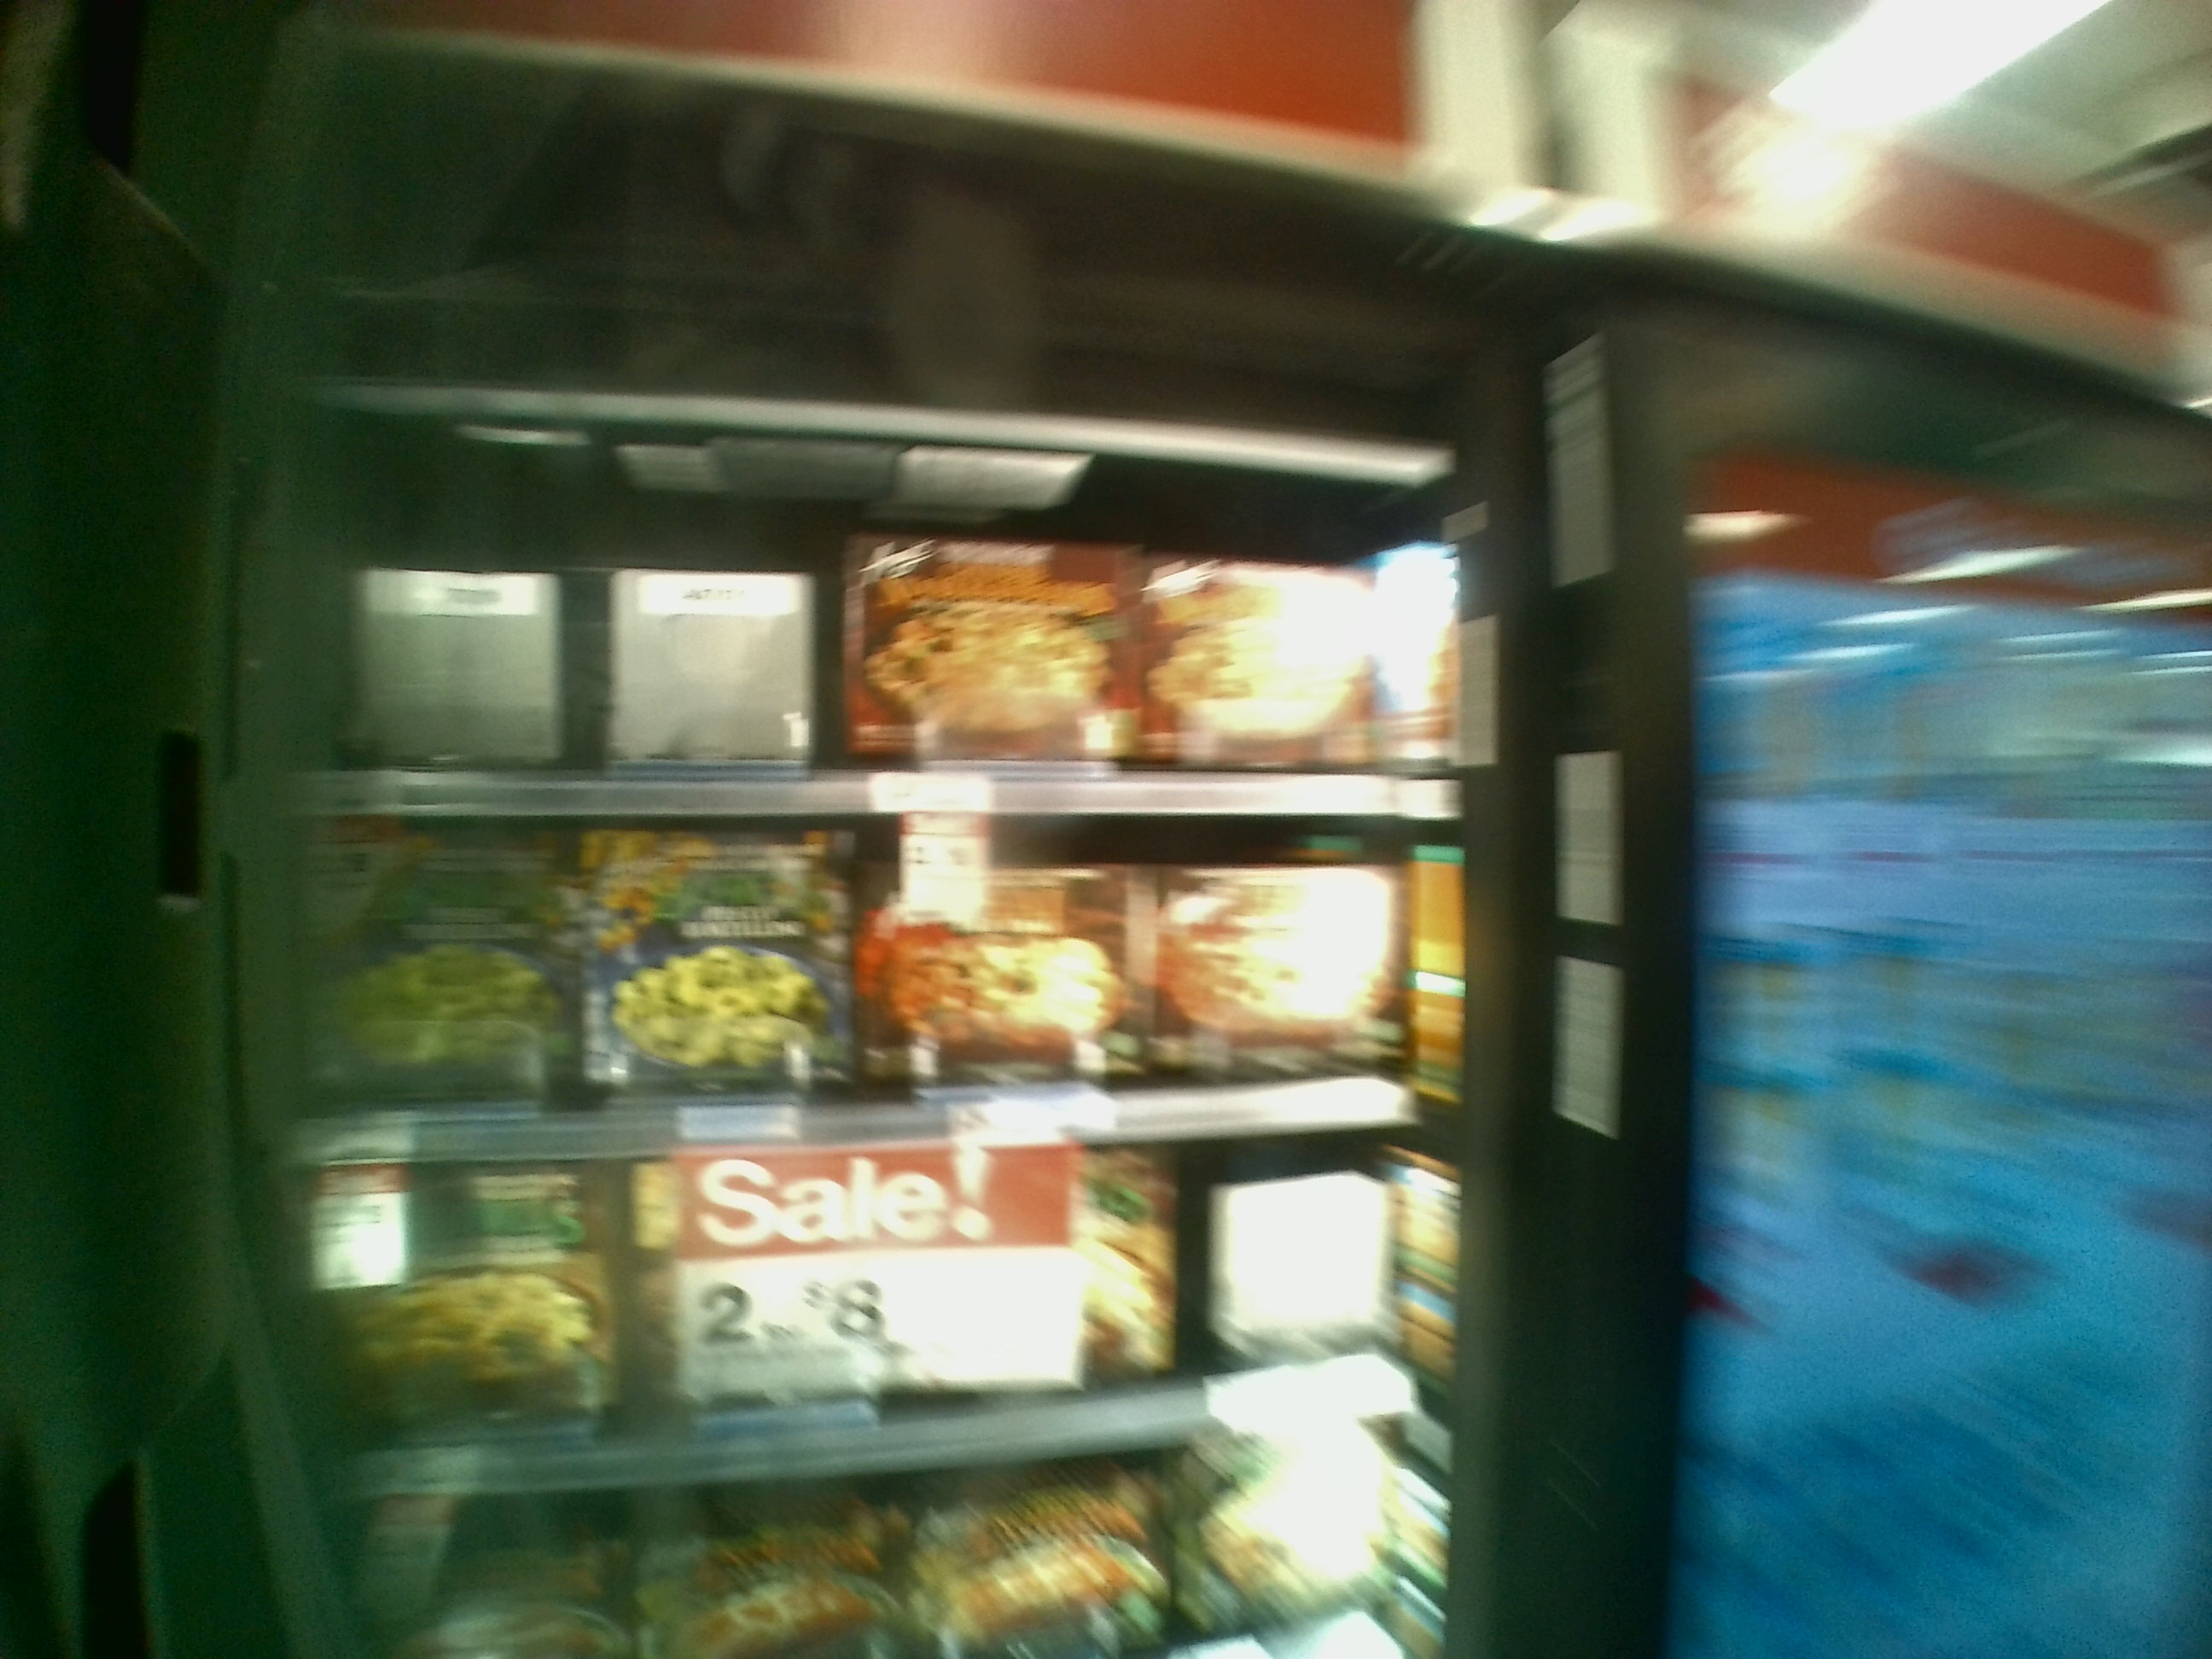shelf: (300, 413, 1458, 828), (301, 1154, 1435, 1480), (294, 833, 1447, 1152)
